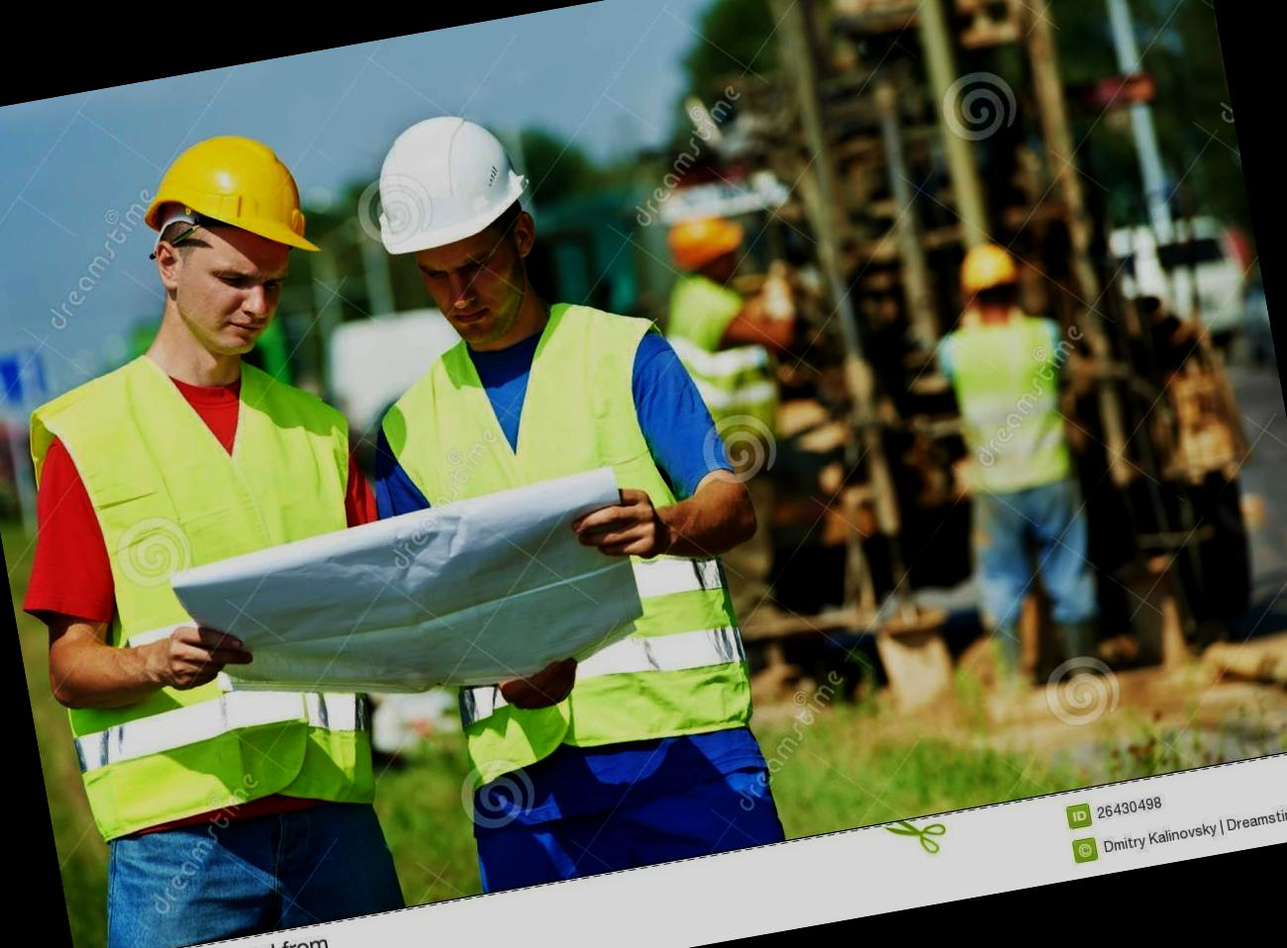helmet: (147, 122, 320, 283), (348, 105, 523, 255)
person: (306, 70, 792, 906), (0, 129, 440, 948)
